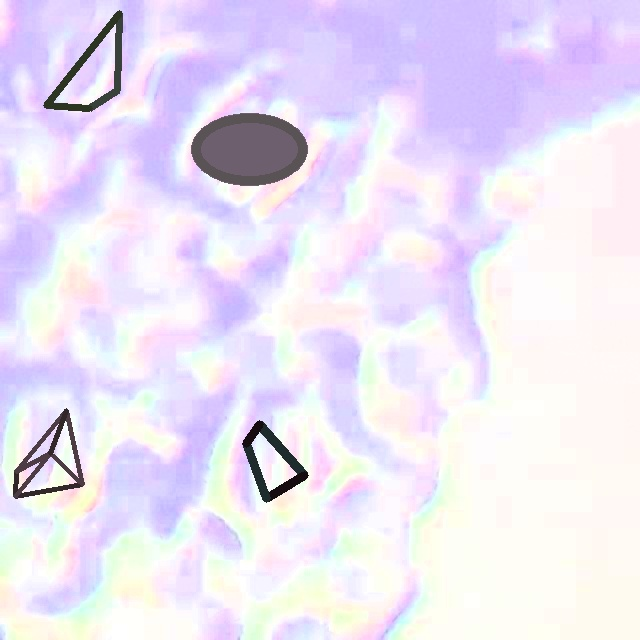close: (191, 113, 306, 185), (15, 408, 84, 498), (243, 421, 307, 501)
open: (43, 10, 120, 111)
